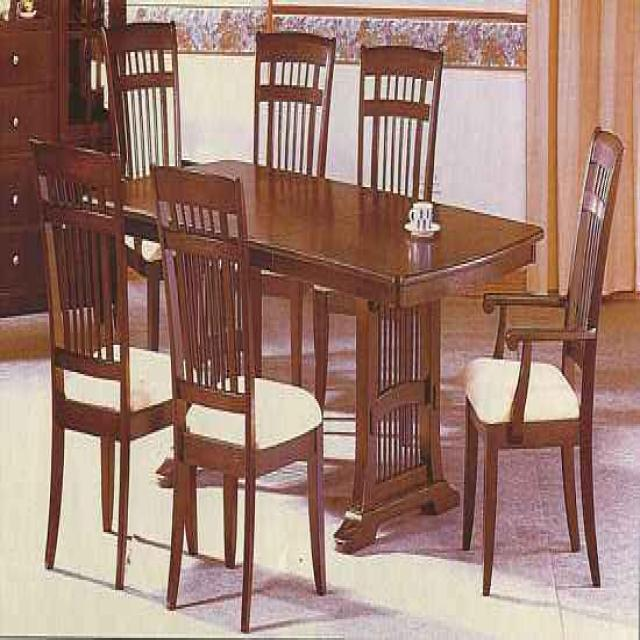table: (84, 158, 544, 554)
